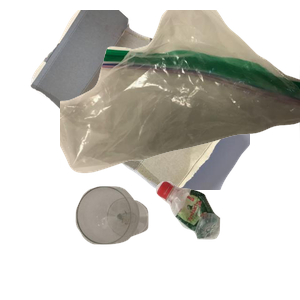glass: (73, 184, 214, 300)
paper: (28, 10, 268, 190)
plastic: (153, 178, 300, 300)
trash: (60, 10, 300, 176)
